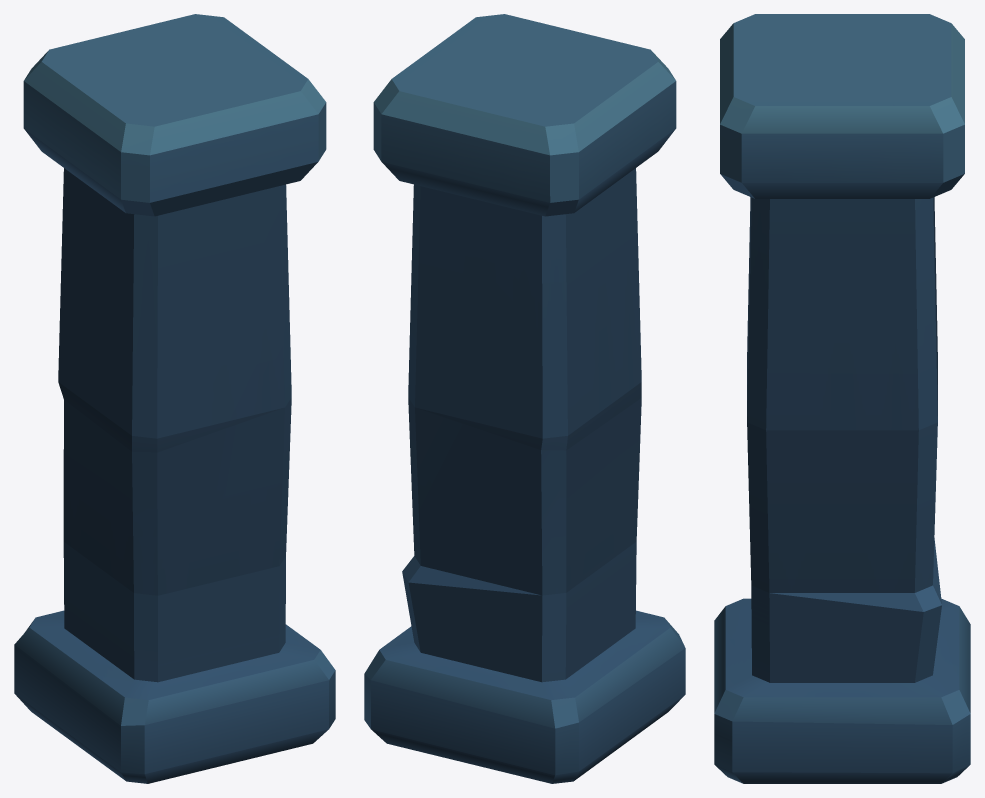
File: pillar_short_slim_2.fbx
3 views of the same model, side by side, from view 1: azimuth 30°, elevation 25°; view 2: azimuth 150°, elevation 25°; view 3: azimuth 270°, elevation 25° (orthographic). The views are drawn at different scales.
Parts seen in each view (by area): view 1: pillar_short_slim_2; view 2: pillar_short_slim_2; view 3: pillar_short_slim_2.
Part boxes in pixels (<box>): pillar_short_slim_2: <box>14,14,335,783</box>; pillar_short_slim_2: <box>364,14,685,783</box>; pillar_short_slim_2: <box>714,14,970,783</box>.
Bounding box in the file's own units: 70.88 × 206 × 70.88.
